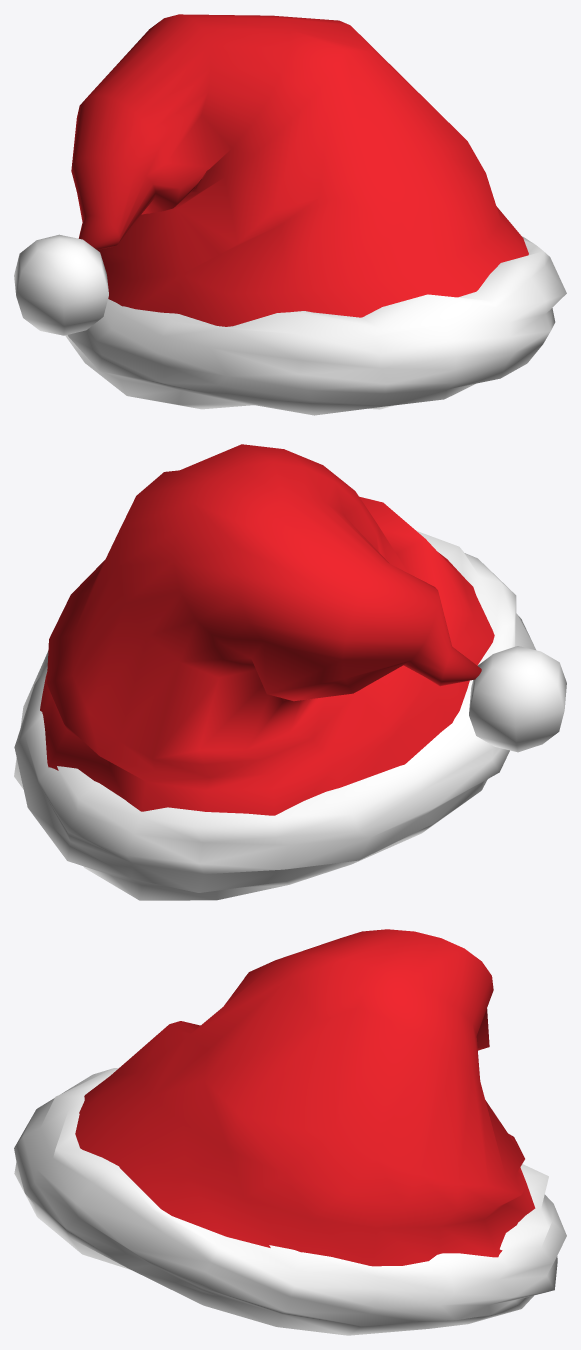
Rendered from Santa1.fbx.
The picture shows the model from 3 angles, top to bottom: view 1: azimuth 30°, elevation 25°; view 2: azimuth 150°, elevation 25°; view 3: azimuth 270°, elevation 25°; orthographic projection. The views are drawn at different scales.
Visible parts, largest first — view 1: Ch_mesh; view 2: Ch_mesh; view 3: Ch_mesh.
Part boxes in pixels (box(x1,y1,x2,y2)): Ch_mesh: box(14, 14, 566, 415); Ch_mesh: box(14, 444, 566, 900); Ch_mesh: box(14, 929, 566, 1335).
Size of the model in its own units: 41.35 by 27.01 by 41.03.
Materials: 2 (2 with a texture image).
